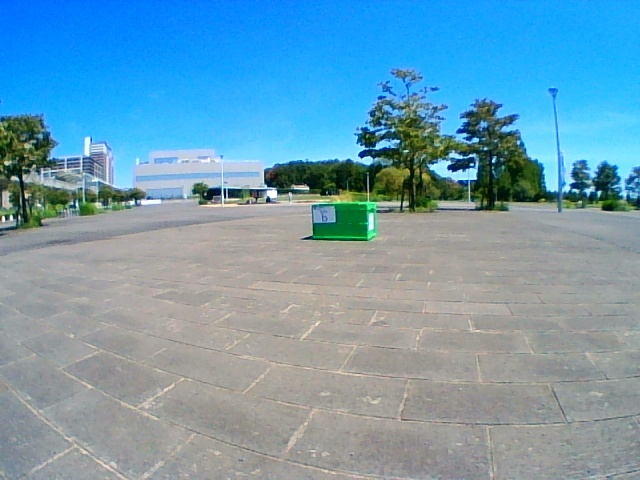green_box: (313, 203, 374, 239)
tag_b: (314, 208, 333, 222)
